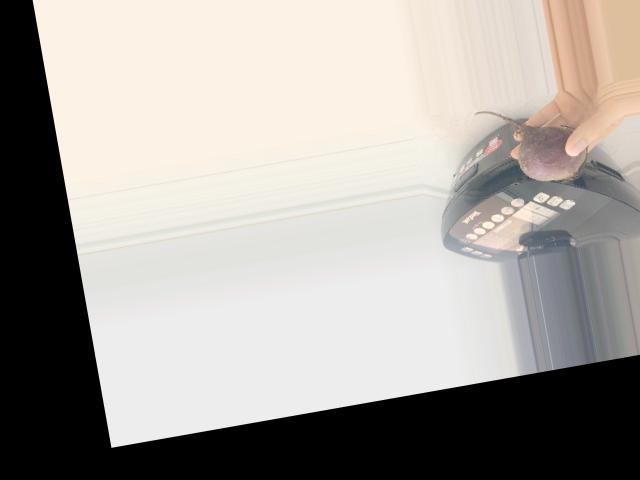beet: (473, 94, 592, 195)
